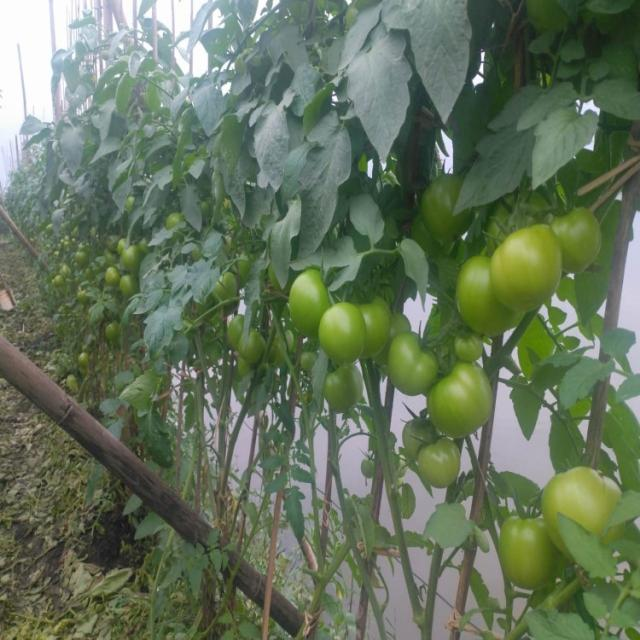tomato: (537, 456, 625, 552), (421, 360, 500, 445), (490, 508, 561, 591), (491, 222, 561, 303), (456, 250, 524, 331), (547, 205, 610, 276), (414, 435, 471, 492), (423, 178, 479, 236), (285, 270, 335, 328), (389, 329, 435, 392), (319, 363, 367, 413), (360, 293, 395, 361), (326, 306, 366, 364), (394, 412, 443, 457), (212, 271, 243, 309), (450, 332, 487, 362), (241, 331, 271, 363), (278, 328, 309, 355), (359, 454, 385, 485), (228, 311, 249, 345), (301, 351, 324, 377), (124, 246, 148, 269), (231, 251, 259, 269), (119, 272, 143, 293), (194, 198, 219, 218), (67, 376, 90, 397), (162, 208, 190, 225), (394, 307, 411, 334), (107, 319, 127, 341), (64, 264, 84, 284), (85, 348, 100, 373), (105, 266, 125, 284), (237, 362, 259, 378), (58, 232, 78, 248), (111, 232, 129, 248), (141, 236, 160, 250), (114, 243, 136, 252), (77, 246, 88, 262), (55, 276, 65, 290), (52, 245, 61, 258), (49, 223, 58, 235), (124, 192, 131, 207), (78, 288, 86, 298)
